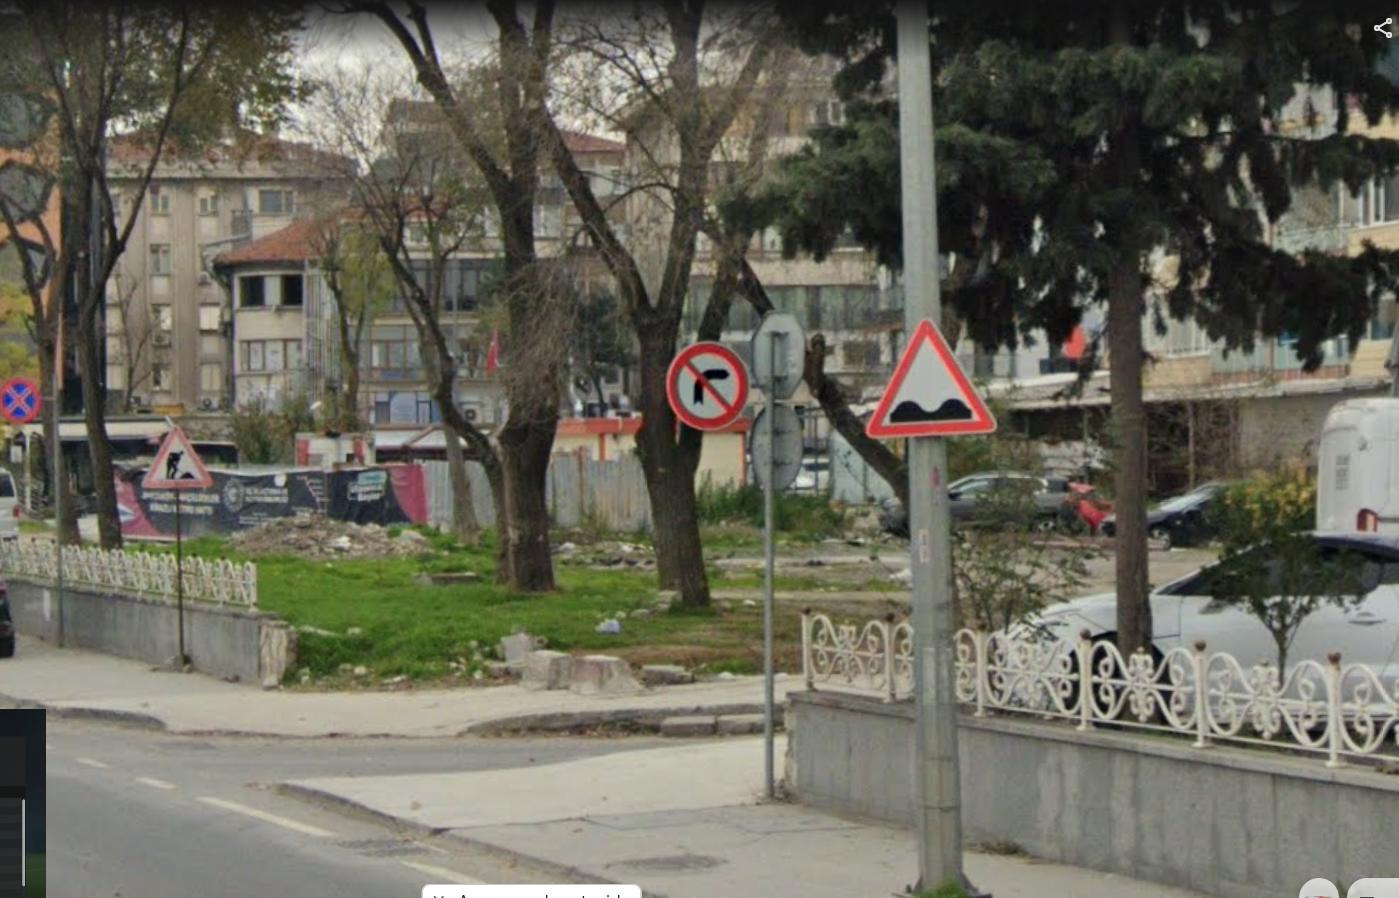rightturnsareforbidden: (670, 346, 741, 433)
